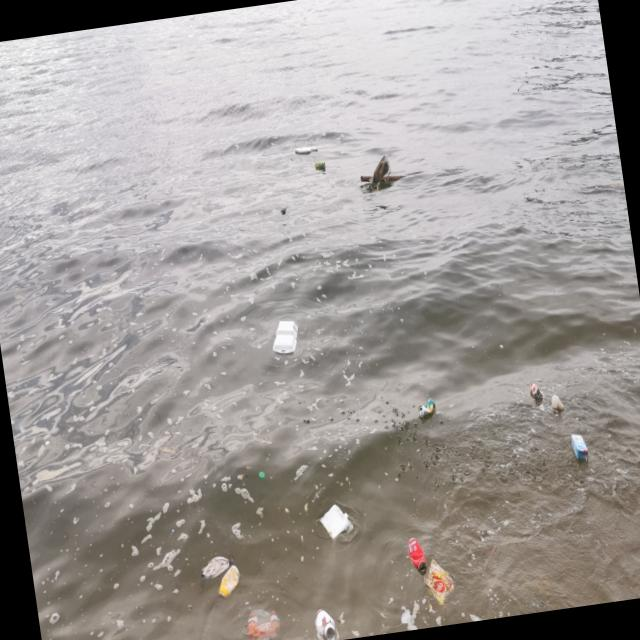can: (218, 566, 244, 601), (313, 606, 339, 640), (407, 538, 430, 576), (419, 399, 438, 418), (316, 162, 327, 169)
foam: (318, 502, 356, 542), (271, 320, 303, 356), (296, 146, 319, 157)
